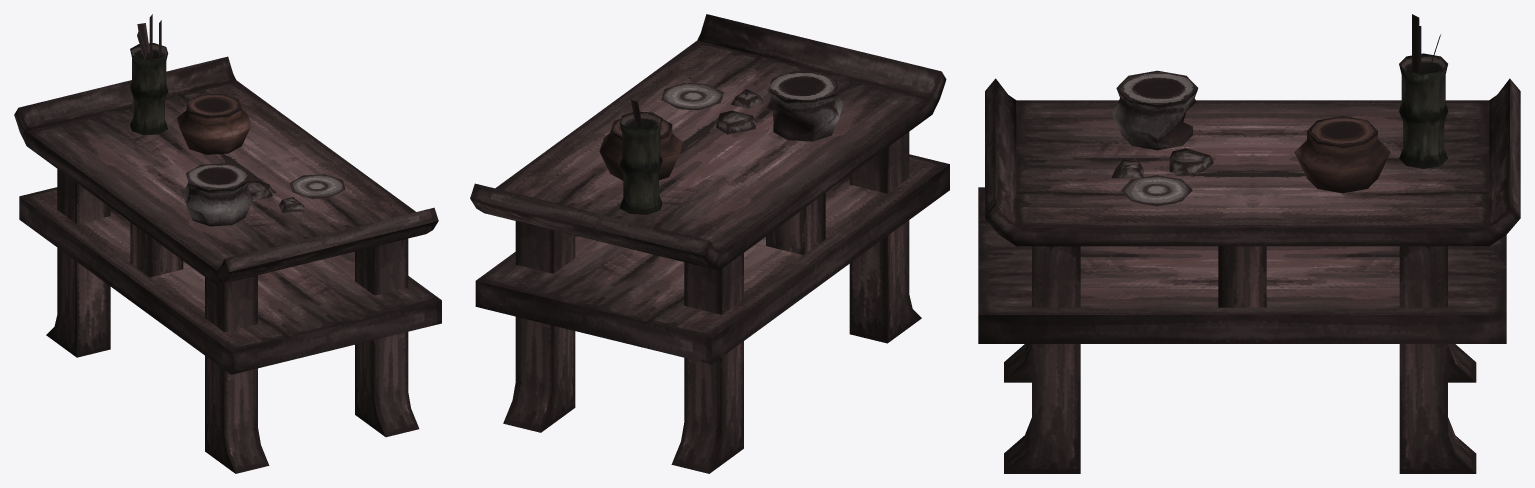
File: PRP_TableB.FBX
The picture shows the model from 3 angles, left to right: view 1: azimuth 30°, elevation 25°; view 2: azimuth 150°, elevation 25°; view 3: azimuth 270°, elevation 25°; orthographic projection. The views are drawn at different scales.
Parts seen in each view (by area): view 1: PRP_TableB; view 2: PRP_TableB; view 3: PRP_TableB.
Boxes of the visible parts, x1,y1,x2,y2 form: PRP_TableB: (14,14,441,473); PRP_TableB: (470,14,949,473); PRP_TableB: (978,14,1520,473).
Bounding box in the file's own units: 93.64 × 135 × 168.
